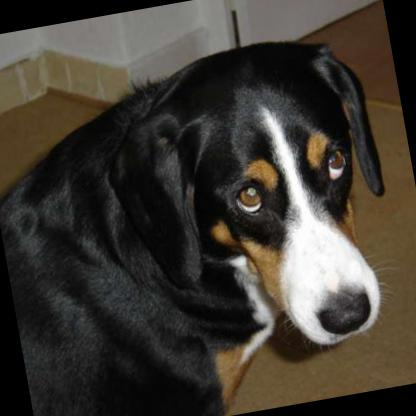EntleBucher: (0, 27, 414, 416)
